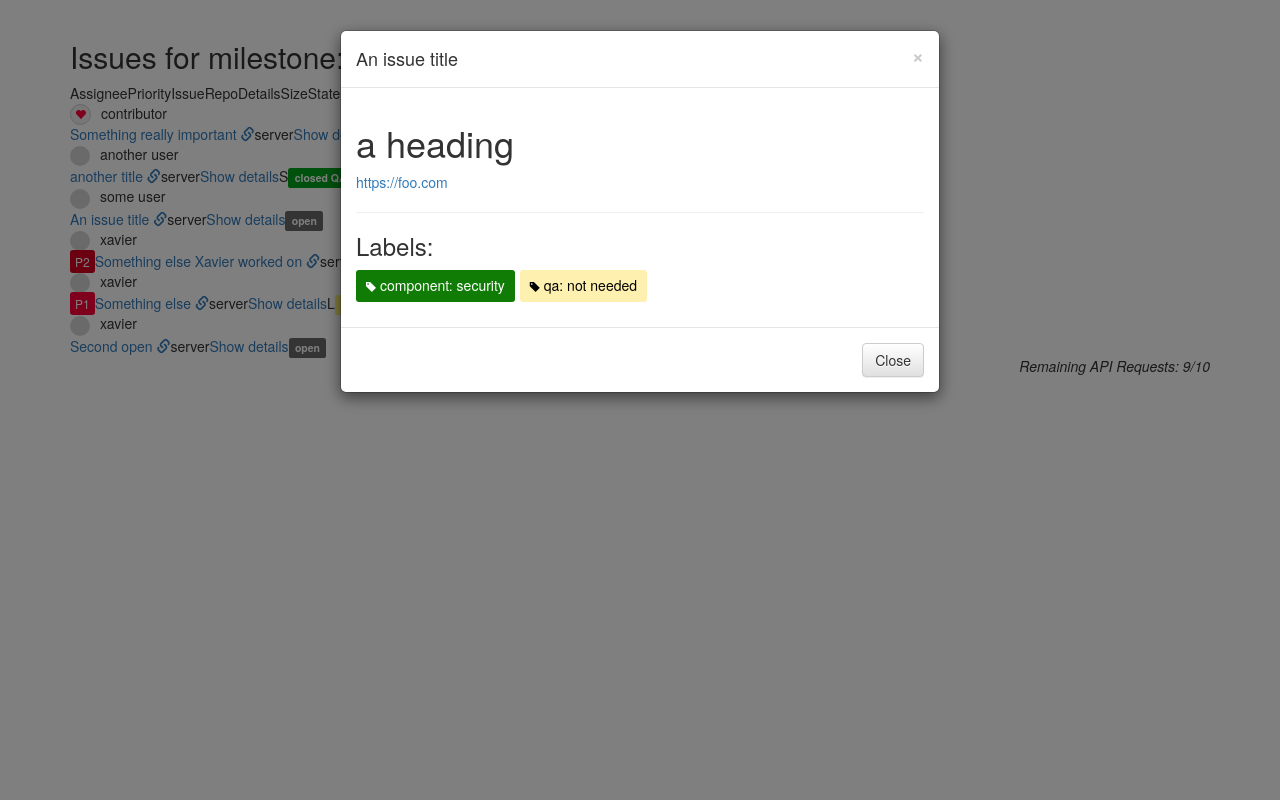
Milestones Page › closes the overlay when clicking close X
What coordinates should you click on to do the following:
click the button with class "close"
I would click on:
 (918, 54)
Its box is [912,44,924,65].
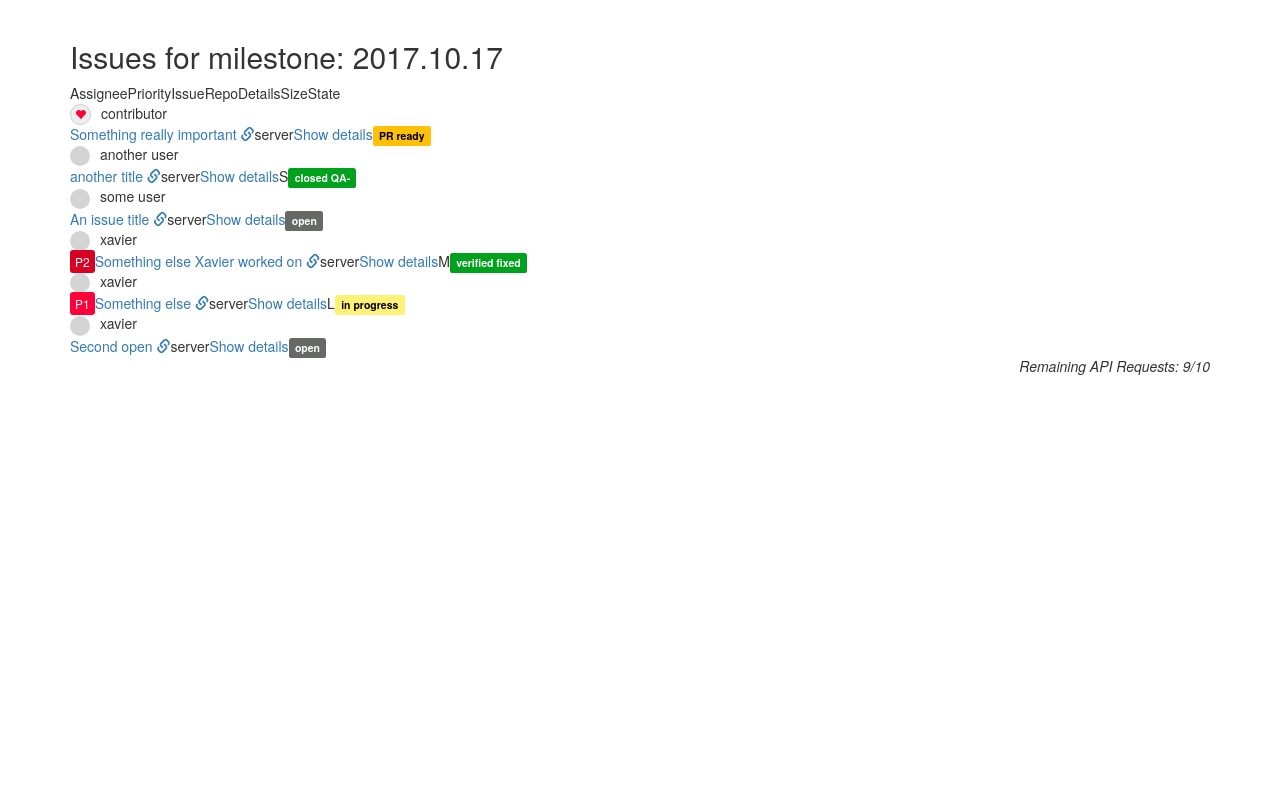
Expected: the element with class "modal-body" is gone
